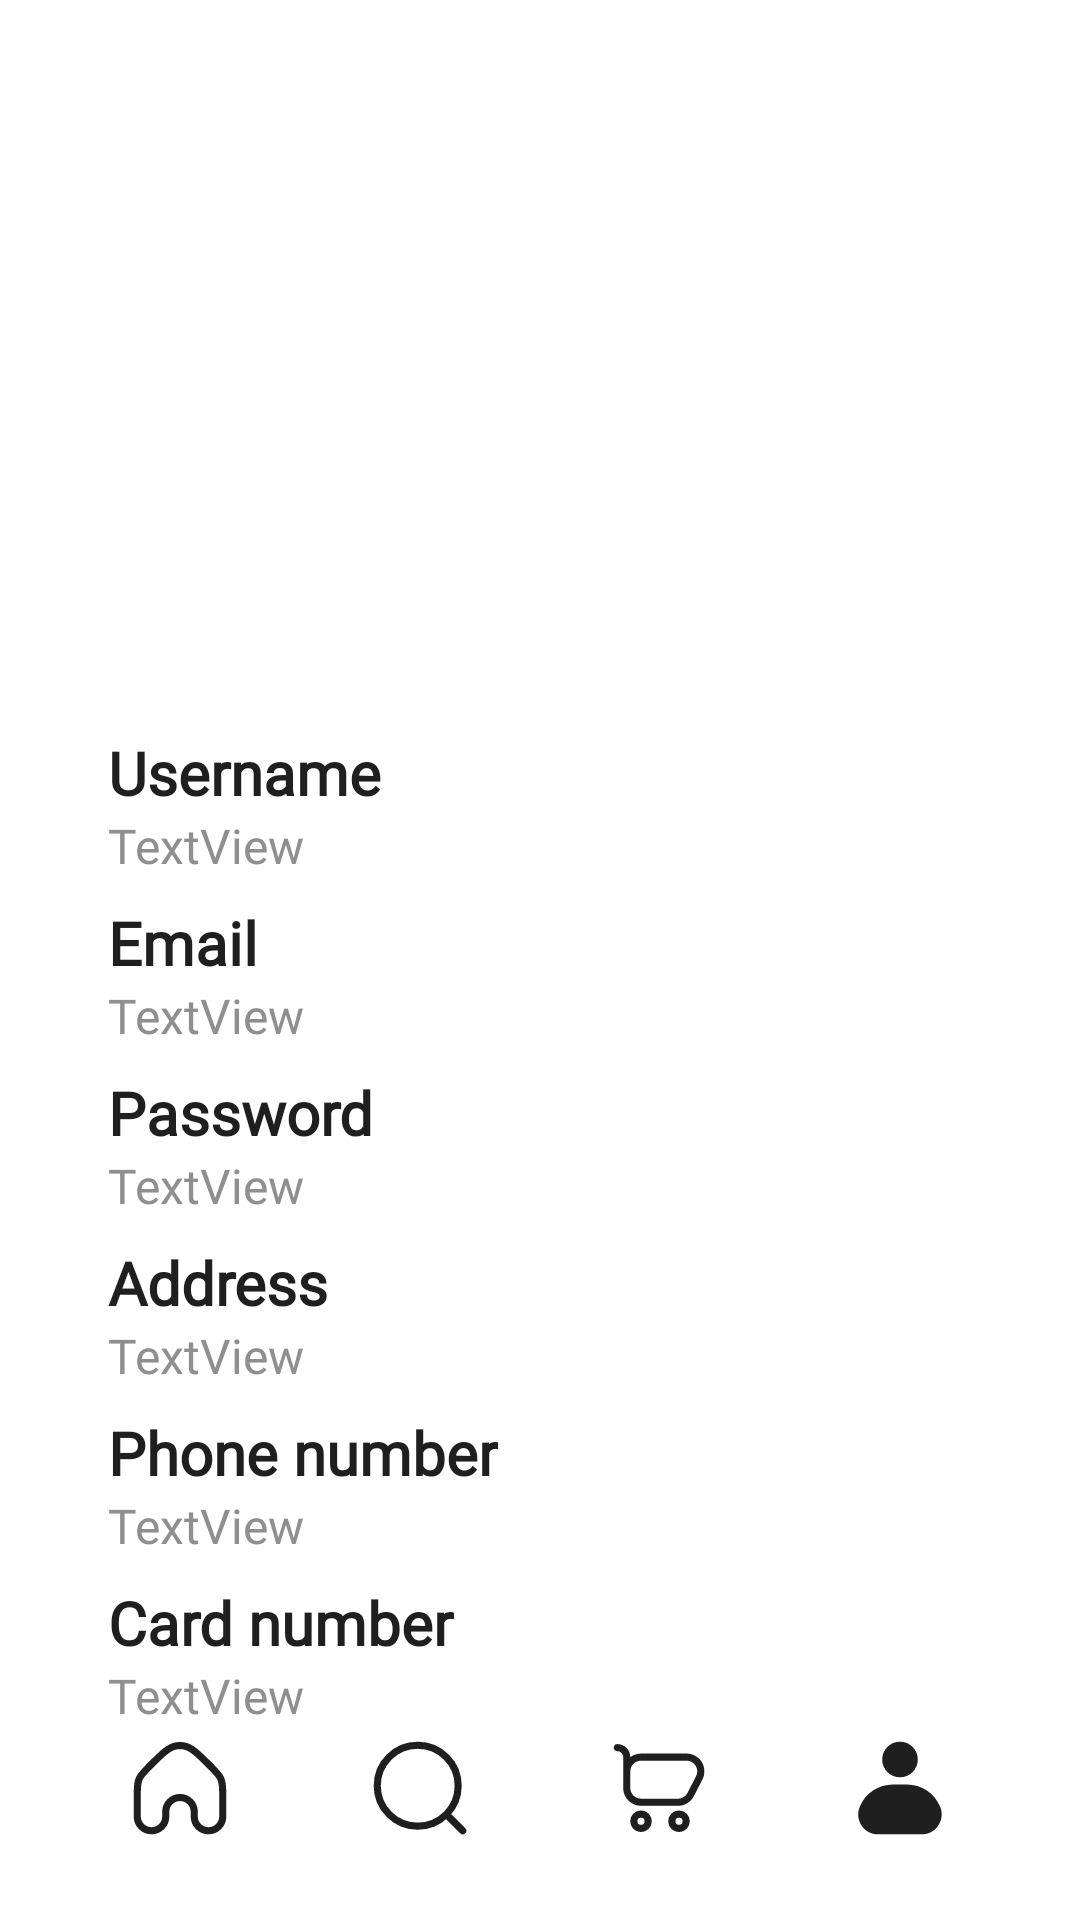

Icons on this 1080x1920 Android screen, each with its box as (x1, y1, x2, y2):
cart line: (613, 1744, 705, 1832)
home line: (133, 1742, 227, 1835)
search line: (373, 1741, 467, 1835)
user: (858, 1741, 942, 1835)
